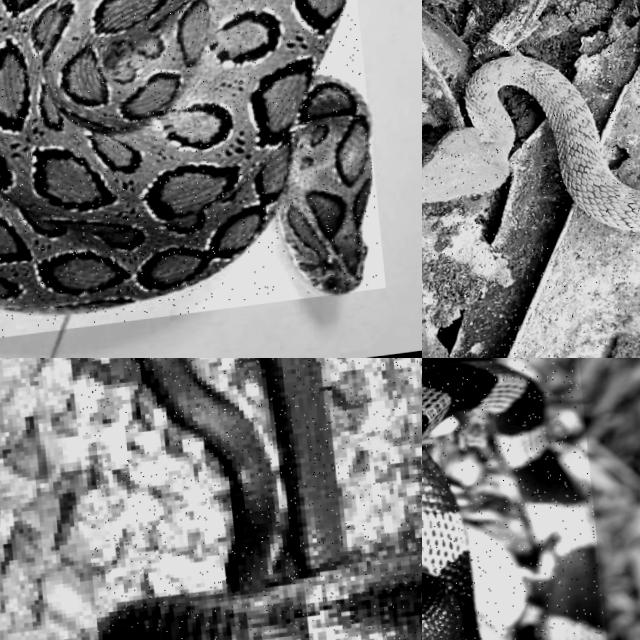Bungarus candidus: (422, 360, 606, 639)
Daboia siamensis: (0, 0, 370, 312)
Naja kaouthia: (102, 358, 421, 639)
Trimeresurus: (422, 55, 639, 231)
